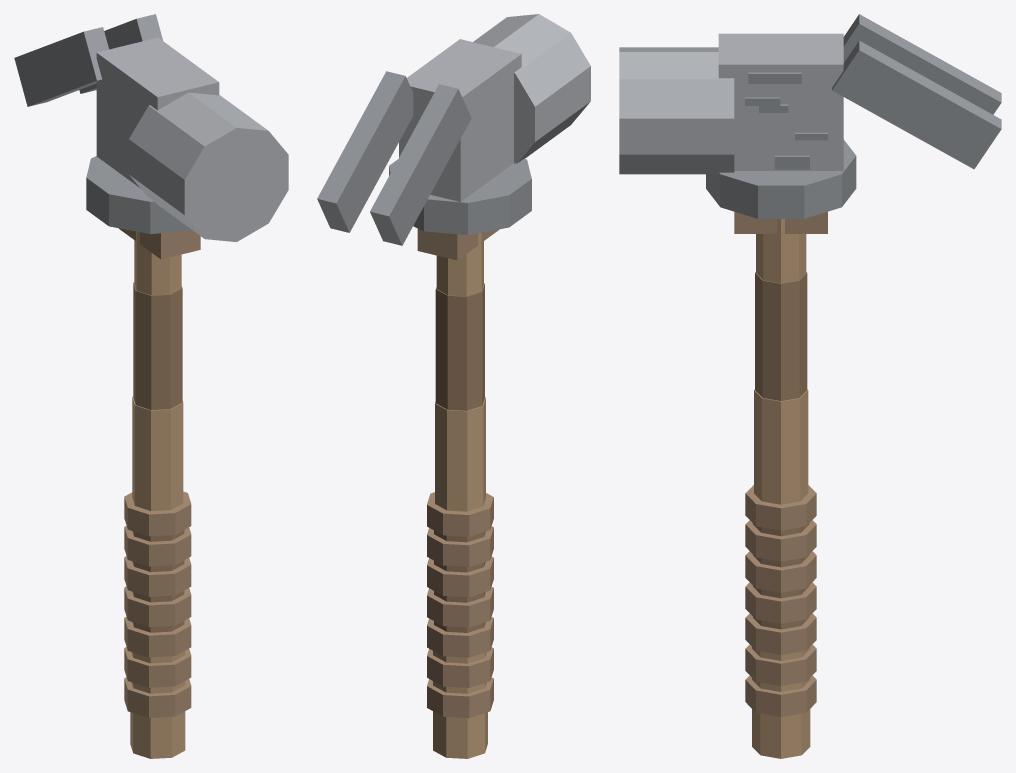
Rendered from hammer.glb.
The picture shows the model from 3 angles, left to right: view 1: azimuth 30°, elevation 25°; view 2: azimuth 150°, elevation 25°; view 3: azimuth 270°, elevation 25°; orthographic projection. The views are drawn at different scales.
Visible parts, largest first — view 1: hammer; view 2: hammer; view 3: hammer.
Boxes of the visible parts, bbox=[...] form: hammer: bbox=[14, 14, 288, 758]; hammer: bbox=[317, 14, 590, 758]; hammer: bbox=[619, 14, 1001, 758].
Size of the model in its own units: 0.137 by 0.7556 by 0.3663.
